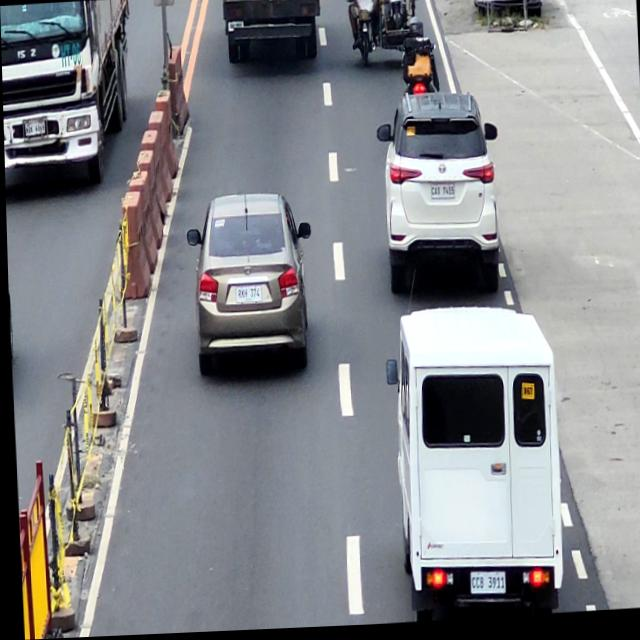Car: (381, 303, 563, 626), (375, 92, 503, 309), (184, 192, 315, 381)
License-Plate: (466, 574, 502, 599), (233, 286, 260, 305), (429, 186, 453, 204), (23, 122, 44, 137), (226, 22, 243, 35)
Motorcycle: (396, 45, 438, 102)
Tricycle: (351, 0, 421, 71)
Truck: (0, 0, 136, 186), (222, 0, 322, 67)
